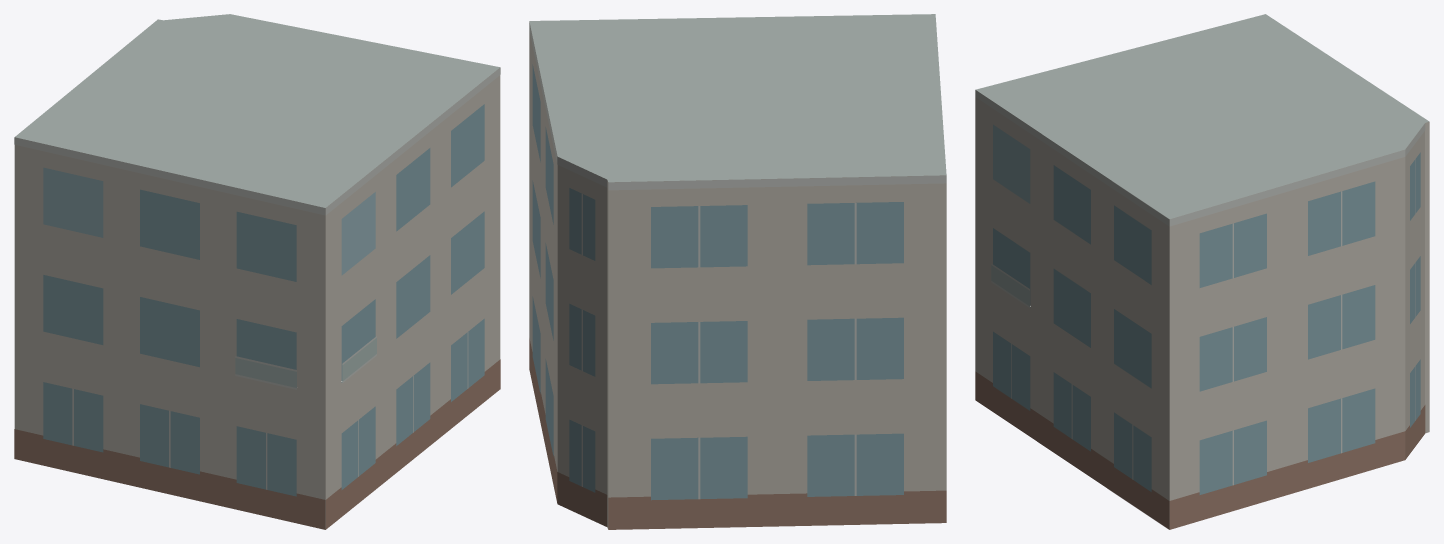
File: survey-upis-32978084.glb
The picture shows the model from 3 angles, left to right: view 1: azimuth 30°, elevation 25°; view 2: azimuth 150°, elevation 25°; view 3: azimuth 270°, elevation 25°; orthographic projection. The views are drawn at different scales.
Parts seen in each view (by area): view 1: survey-upis-32978084.tmp; view 2: survey-upis-32978084.tmp; view 3: survey-upis-32978084.tmp.
Boxes of the visible parts, x1,y1,x2,y2 form: survey-upis-32978084.tmp: [14, 14, 500, 529]; survey-upis-32978084.tmp: [529, 14, 946, 529]; survey-upis-32978084.tmp: [975, 14, 1429, 529].
Size of the model in its own units: 14.82 by 10.44 by 13.85.
